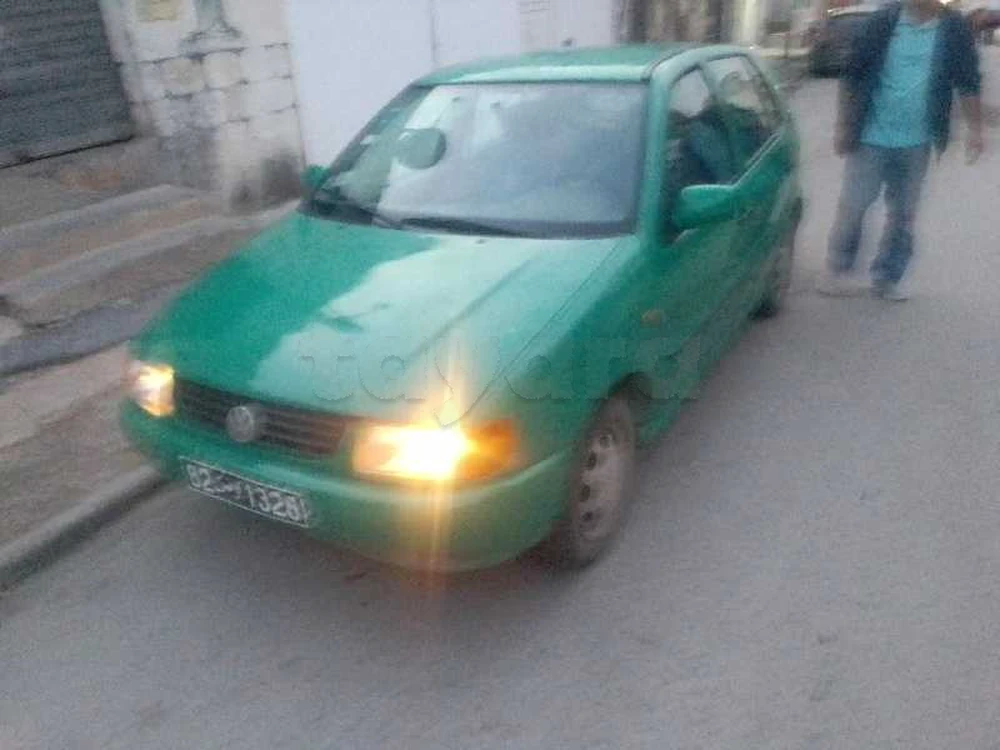volkswagen: (118, 44, 815, 581)
